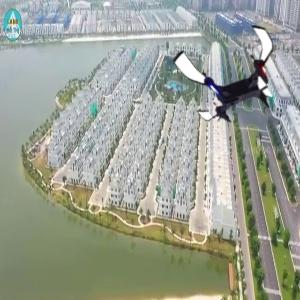drone: (180, 19, 290, 129)
